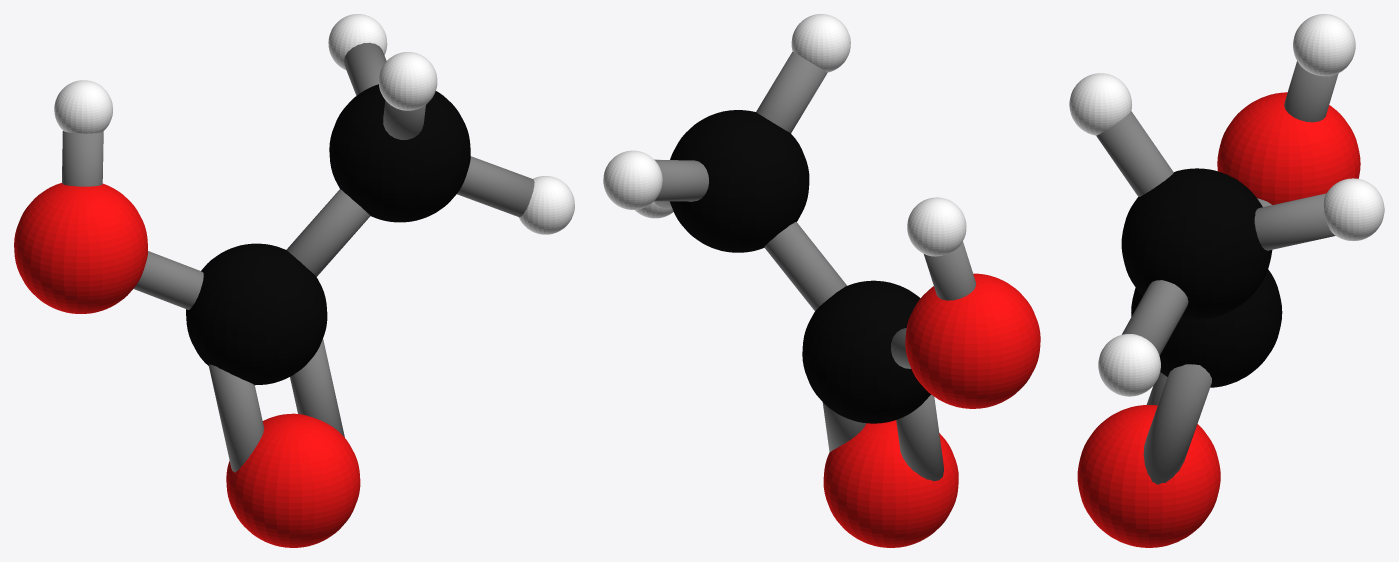
The model's file is ACIDO ACETICO.obj.
3 views of the same model, side by side, from view 1: azimuth 30°, elevation 25°; view 2: azimuth 150°, elevation 25°; view 3: azimuth 270°, elevation 25° (orthographic). The views are drawn at different scales.
Visible parts, largest first — view 1: Carbon_ball_Sphere, Oxygen_ball_Sphere.001, Hydrogen_ball_Sphere.002, Stick_Cylinder.007_Cylinder.007, Stick_Cylinder.002_Cylinder.002, Stick_Cylinder.006_Cylinder.006, Stick_Cylinder.001_Cylinder.001, Stick_Cylinder_Cylinder, Stick_Cylinder.003_Cylinder.003, Stick_Cylinder.004_Cylinder.004, Stick_Cylinder.005_Cylinder.005; view 2: Carbon_ball_Sphere, Oxygen_ball_Sphere.001, Hydrogen_ball_Sphere.002, Stick_Cylinder.002_Cylinder.002, Stick_Cylinder.005_Cylinder.005, Stick_Cylinder.007_Cylinder.007, Stick_Cylinder.003_Cylinder.003, Stick_Cylinder.004_Cylinder.004, Stick_Cylinder.001_Cylinder.001, Stick_Cylinder_Cylinder; view 3: Oxygen_ball_Sphere.001, Carbon_ball_Sphere, Hydrogen_ball_Sphere.002, Stick_Cylinder.001_Cylinder.001, Stick_Cylinder.005_Cylinder.005, Stick_Cylinder.004_Cylinder.004, Stick_Cylinder.006_Cylinder.006, Stick_Cylinder.003_Cylinder.003.
Part boxes in pixels (<box>): Carbon_ball_Sphere: <box>186,84,470,385</box>; Oxygen_ball_Sphere.001: <box>14,183,360,547</box>; Hydrogen_ball_Sphere.002: <box>54,14,574,234</box>; Stick_Cylinder.007_Cylinder.007: <box>208,364,264,472</box>; Stick_Cylinder.002_Cylinder.002: <box>286,189,370,276</box>; Stick_Cylinder.006_Cylinder.006: <box>457,156,534,217</box>; Stick_Cylinder.001_Cylinder.001: <box>290,339,344,437</box>; Stick_Cylinder_Cylinder: <box>133,251,203,309</box>; Stick_Cylinder.003_Cylinder.003: <box>62,131,103,186</box>; Stick_Cylinder.004_Cylinder.004: <box>343,42,386,95</box>; Stick_Cylinder.005_Cylinder.005: <box>383,100,425,139</box>; Carbon_ball_Sphere: <box>669,110,930,423</box>; Oxygen_ball_Sphere.001: <box>823,273,1040,547</box>; Hydrogen_ball_Sphere.002: <box>603,14,966,256</box>; Stick_Cylinder.002_Cylinder.002: <box>764,222,846,310</box>; Stick_Cylinder.005_Cylinder.005: <box>756,51,827,132</box>; Stick_Cylinder.007_Cylinder.007: <box>896,394,943,481</box>; Stick_Cylinder.003_Cylinder.003: <box>924,241,975,300</box>; Stick_Cylinder.004_Cylinder.004: <box>654,160,708,201</box>; Stick_Cylinder.001_Cylinder.001: <box>822,402,866,451</box>; Stick_Cylinder_Cylinder: <box>891,328,910,368</box>; Oxygen_ball_Sphere.001: <box>1077,92,1360,547</box>; Carbon_ball_Sphere: <box>1121,168,1282,387</box>; Hydrogen_ball_Sphere.002: <box>1069,14,1384,396</box>; Stick_Cylinder.001_Cylinder.001: <box>1143,364,1211,484</box>; Stick_Cylinder.005_Cylinder.005: <box>1096,111,1173,196</box>; Stick_Cylinder.004_Cylinder.004: <box>1254,193,1335,250</box>; Stick_Cylinder.006_Cylinder.006: <box>1122,280,1188,355</box>; Stick_Cylinder.003_Cylinder.003: <box>1284,61,1338,122</box>.
Size of the model in its own units: 5.35 by 5.19 by 2.89.
